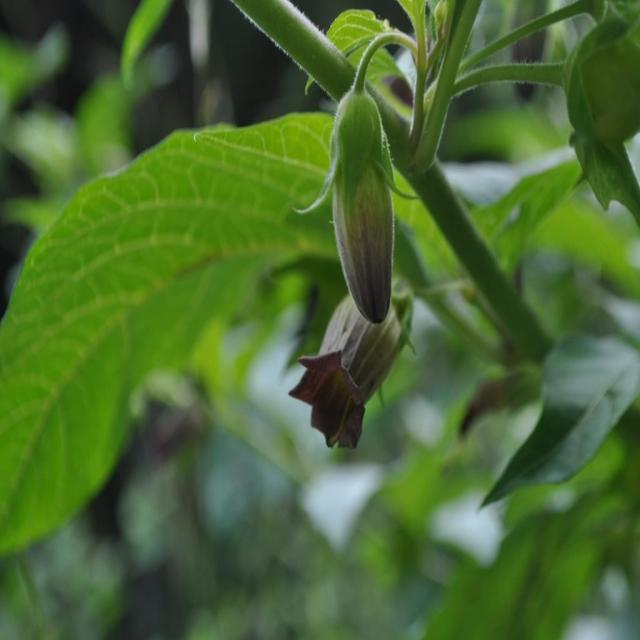Poisonous-Deadly_Nightshade: (248, 0, 500, 447), (504, 3, 636, 225)
